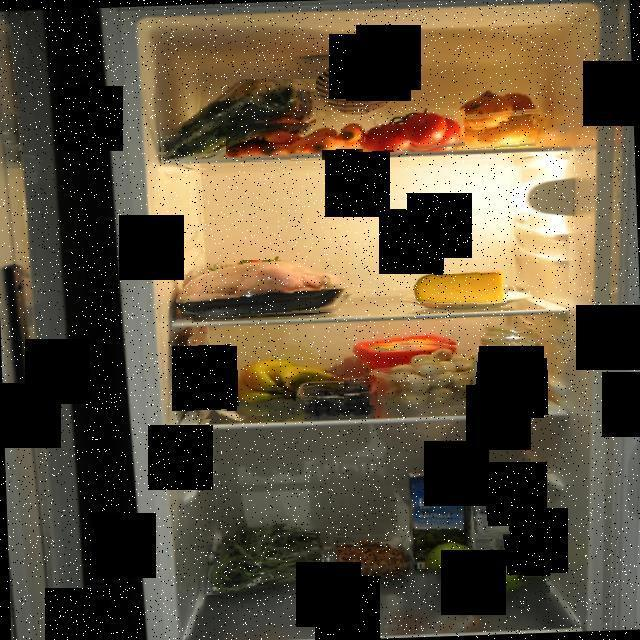apple: (424, 532, 550, 594)
banana: (224, 353, 344, 406)
butter: (350, 334, 458, 398)
carrot: (226, 123, 366, 162)
cheese: (412, 266, 510, 308)
chicken: (176, 260, 351, 318)
green_beans: (194, 513, 332, 595)
ham: (185, 326, 232, 421)
milk: (402, 468, 471, 575), (468, 468, 524, 568)
mushrooms: (369, 345, 496, 405)
onion: (457, 86, 542, 150)
shrimp: (333, 538, 408, 580)
spinach: (156, 79, 316, 162)
sugar: (470, 322, 548, 416)
tomato: (362, 109, 466, 154)
